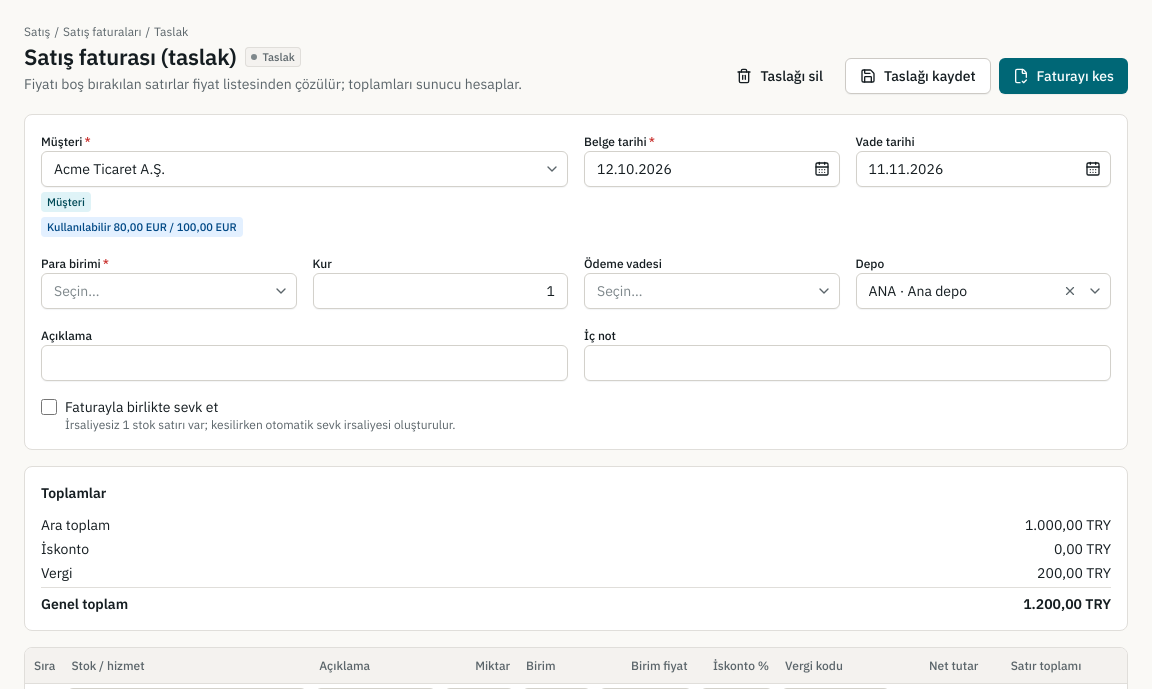
Scenario: invoice editor › compares the server amount in the risk currency with a EUR risk limit
Expected: the heading "Satış faturası (taslak)" is shown, [24, 42, 236, 72]
Click the button "Faturayı kes". click: x=1063, y=76
box: [999, 58, 1128, 94]
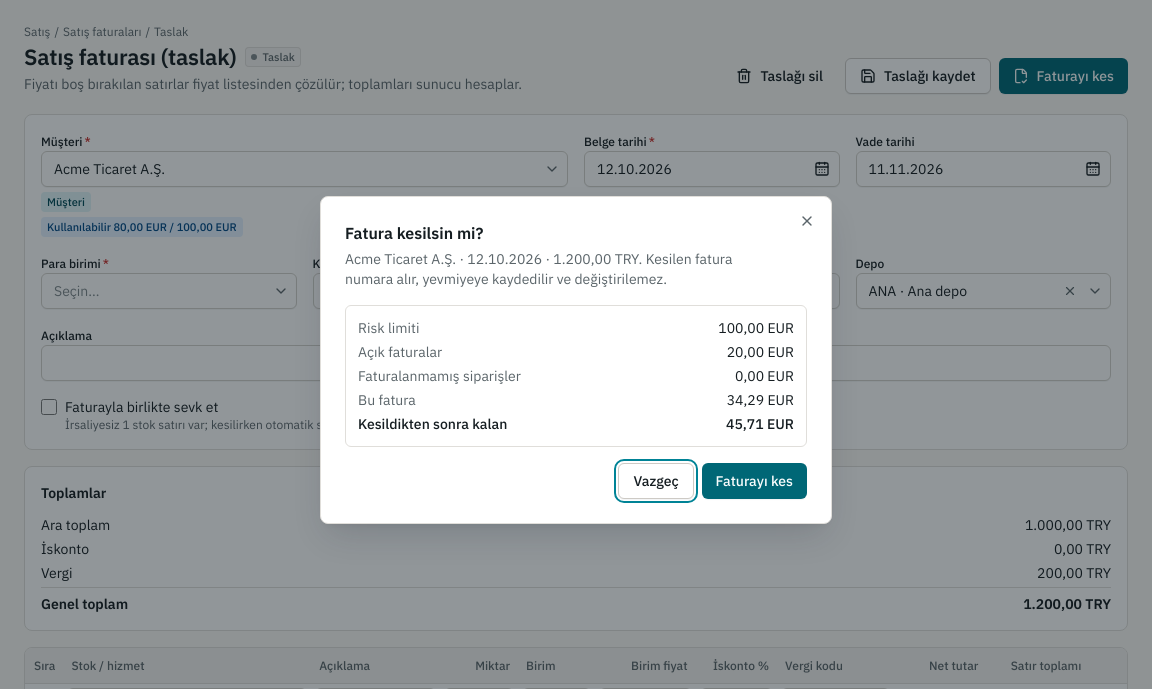
Expected: the element with test id "exposure" shows "100,00 EUR", [718, 319, 794, 337]
Expected: the element with test id "exposure" shows "34,29 EUR", [727, 391, 794, 409]
Expected: the element with test id "exposure" shows "45,71 EUR", [726, 415, 794, 433]
